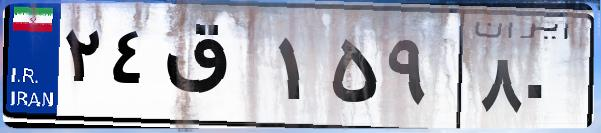0: (525, 38, 570, 115)
1: (270, 28, 330, 110)
2: (57, 26, 110, 100)
4: (110, 28, 158, 98)
5: (330, 28, 385, 110)
8: (475, 38, 525, 113)
9: (385, 28, 445, 110)
ق: (158, 20, 270, 120)
